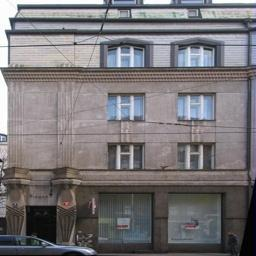building: (2, 2, 256, 256)
